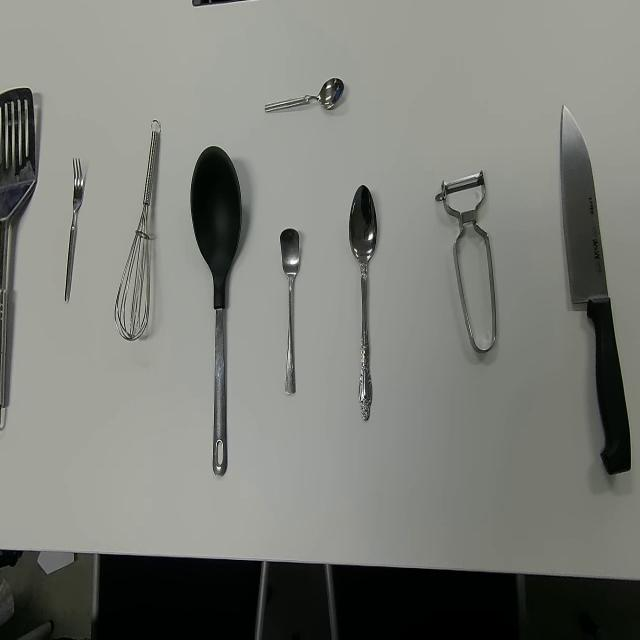Desert-Spoon: (348, 184, 378, 424)
Dinner-Fork: (63, 157, 84, 305)
Kitchen-Knife: (560, 103, 632, 477)
Peeler: (434, 168, 498, 354)
Serving-Spoon: (189, 144, 243, 479), (0, 86, 37, 429)
Tea-Spoon: (280, 226, 300, 397), (263, 75, 345, 116)
Whisk: (113, 119, 162, 342)
